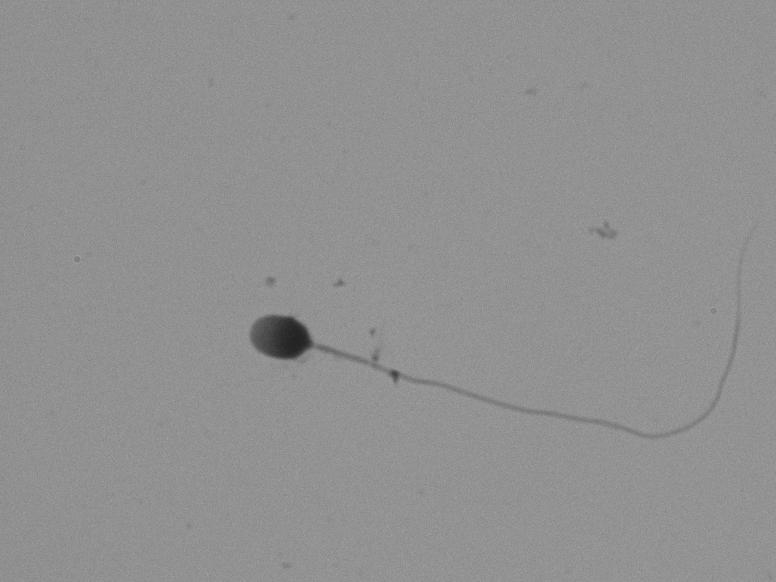Normal: (229, 152, 753, 478)
